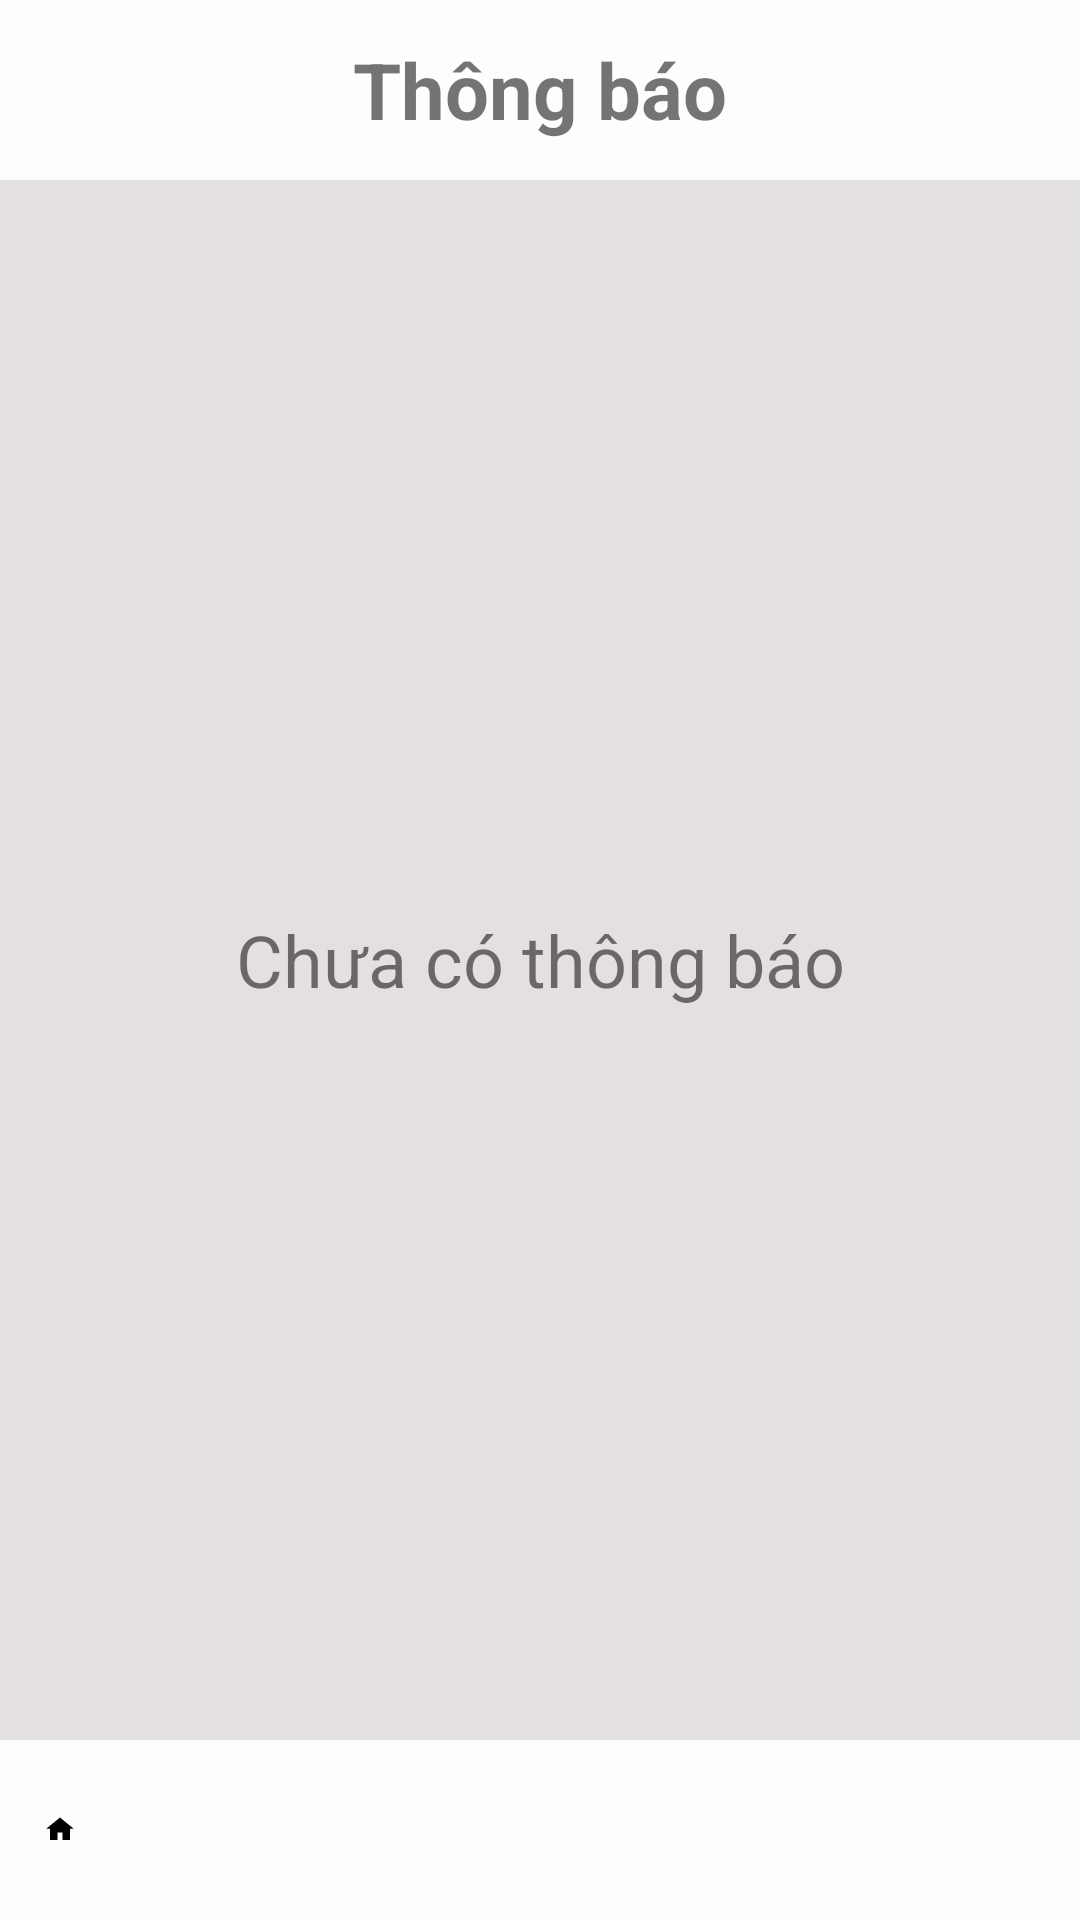

Icons on this 1080x1920 Android screen, each with the point to tap as (x,y):
Home: (60,1828)
